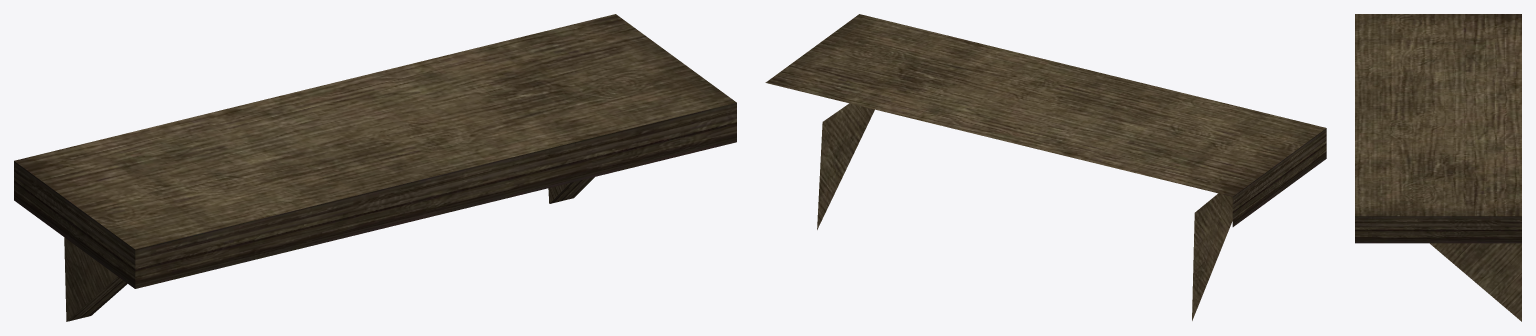
Rendered from GS_VOB_SHELF_BROWN_01_KOZA.glb.
3 views of the same model, side by side, from view 1: azimuth 30°, elevation 25°; view 2: azimuth 150°, elevation 25°; view 3: azimuth 270°, elevation 25° (orthographic). The views are drawn at different scales.
Parts seen in each view (by area): view 1: GS_VOB_SHELF_BROWN_01_KOZA; view 2: GS_VOB_SHELF_BROWN_01_KOZA; view 3: GS_VOB_SHELF_BROWN_01_KOZA.
Boxes of the visible parts, box(x1,y1,x2,y2) form: GS_VOB_SHELF_BROWN_01_KOZA: box(14, 14, 736, 321); GS_VOB_SHELF_BROWN_01_KOZA: box(765, 14, 1326, 320); GS_VOB_SHELF_BROWN_01_KOZA: box(1355, 14, 1521, 321).
Bounding box in the file's own units: 1.91 × 0.5274 × 0.6657.
2 materials, 2 textured.
